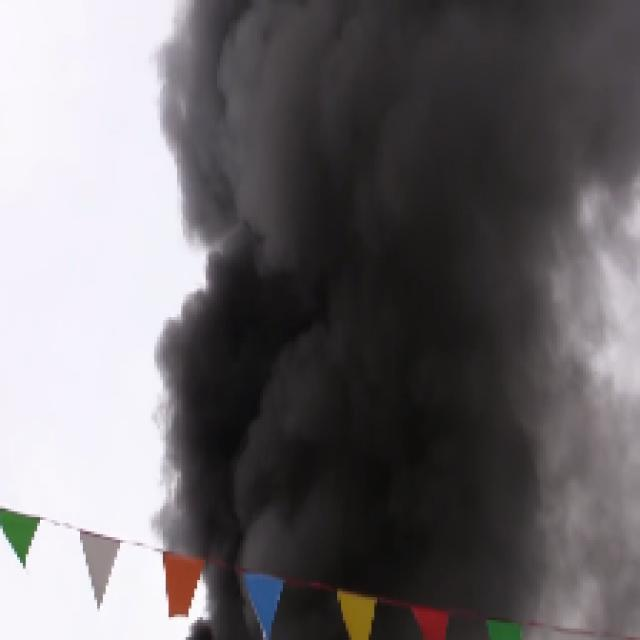Smoke: (155, 3, 640, 546)
